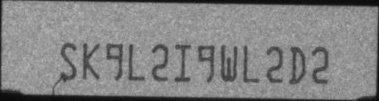2: (312, 44, 329, 85), (150, 43, 168, 81), (266, 44, 283, 83)
9: (106, 42, 124, 82), (197, 43, 215, 82)
D: (288, 45, 307, 84)
I: (174, 42, 190, 82)
K: (81, 40, 99, 80)
L: (127, 44, 146, 80), (242, 45, 259, 83)
W: (220, 42, 239, 83)
X: (59, 42, 77, 80)
